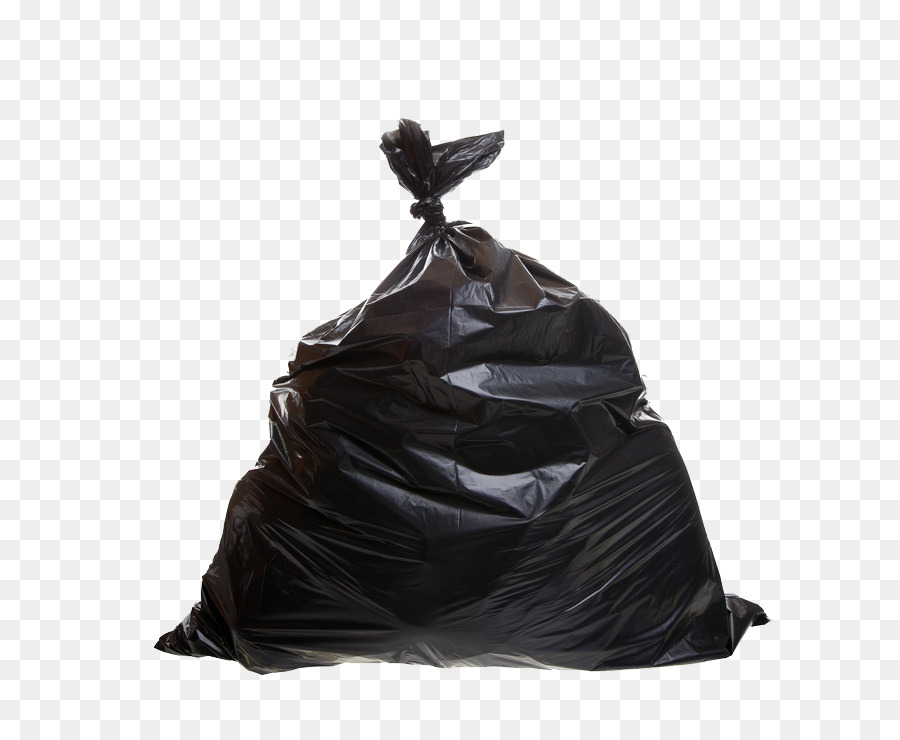plastic_bagwdw: (107, 100, 803, 730)
